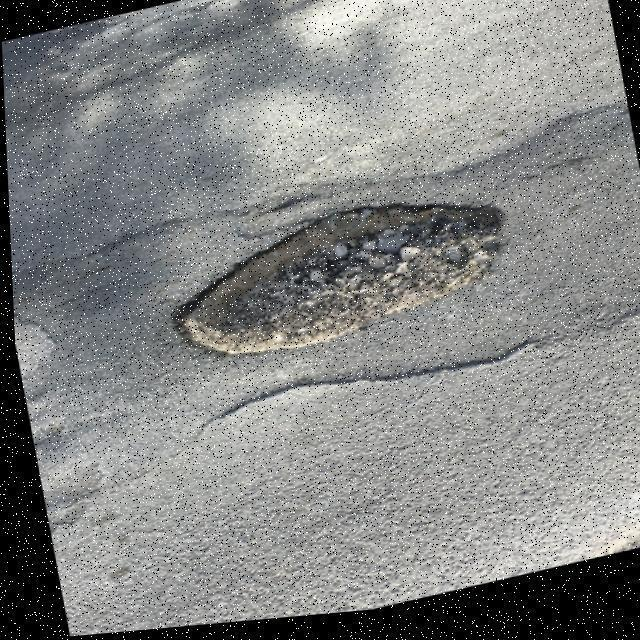Pothole: (173, 201, 505, 360)
